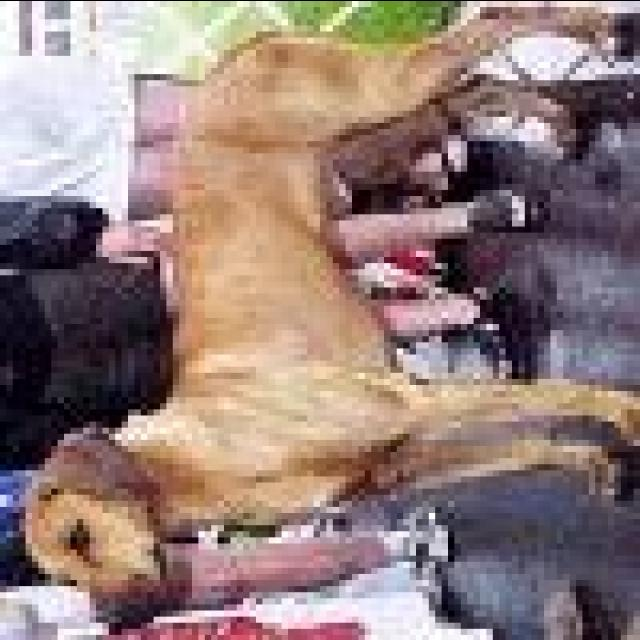rhodesian_ridgeback: (19, 6, 634, 640)
